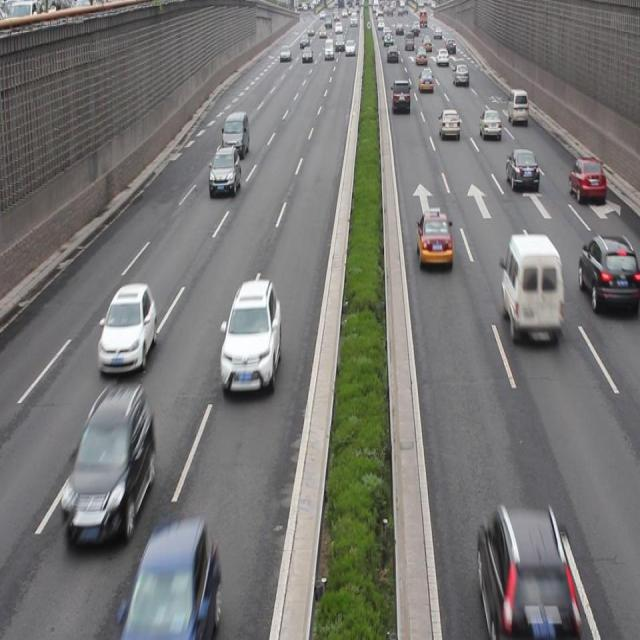car: (61, 386, 153, 544), (474, 505, 573, 629), (125, 526, 222, 640), (222, 281, 279, 397), (96, 284, 156, 374), (577, 233, 640, 317), (416, 208, 452, 272), (566, 158, 604, 204), (209, 146, 240, 198), (503, 148, 538, 192), (438, 109, 459, 140), (479, 108, 499, 140)
truck: (499, 231, 563, 350), (221, 113, 249, 156), (506, 92, 527, 125)
